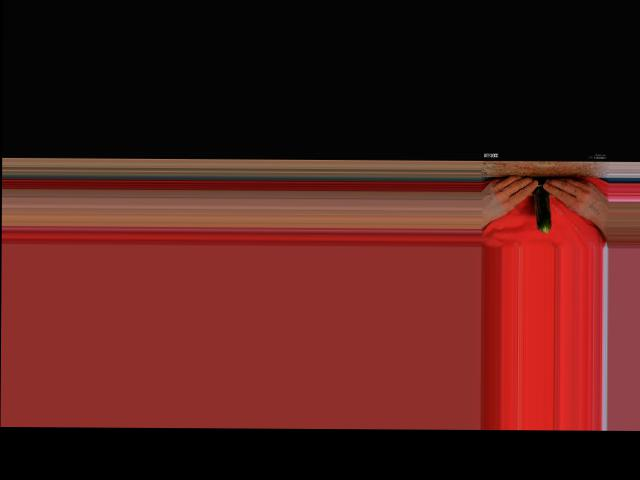cucumber: (534, 177, 552, 232)
